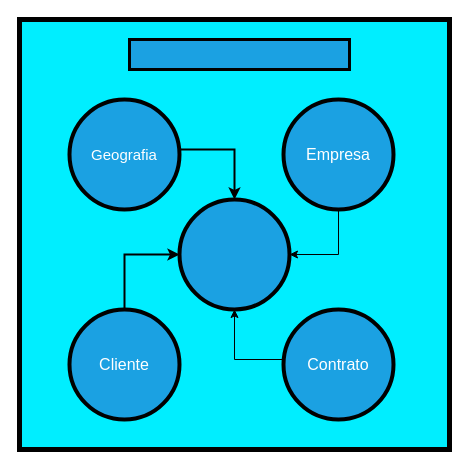
Some shapes in this 469 by 469 pixel diagram are drawn without their labels. Here are the shapes that lost their labels. From the top down, the box of each, then its label:
(128, 38, 350, 70): Objetos de negocio de alto valor
(177, 197, 291, 311): Producto
